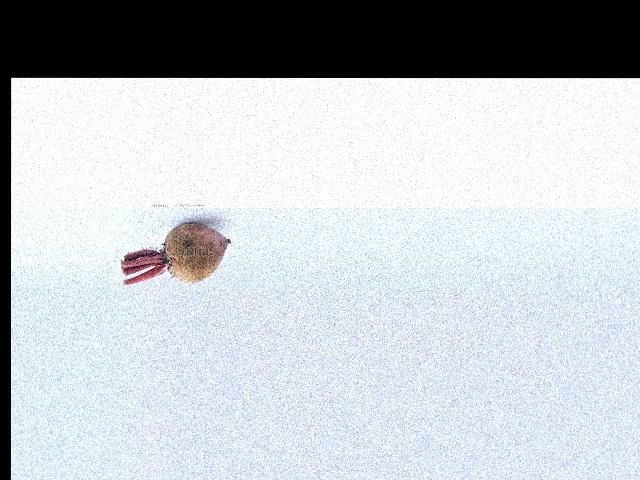beet: (122, 223, 229, 283)
